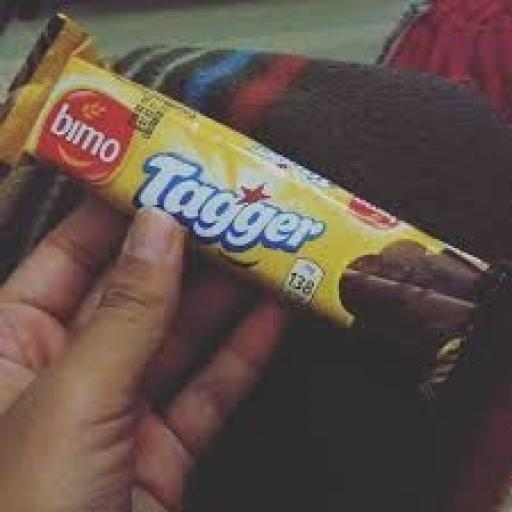tagger: (19, 22, 496, 361)
